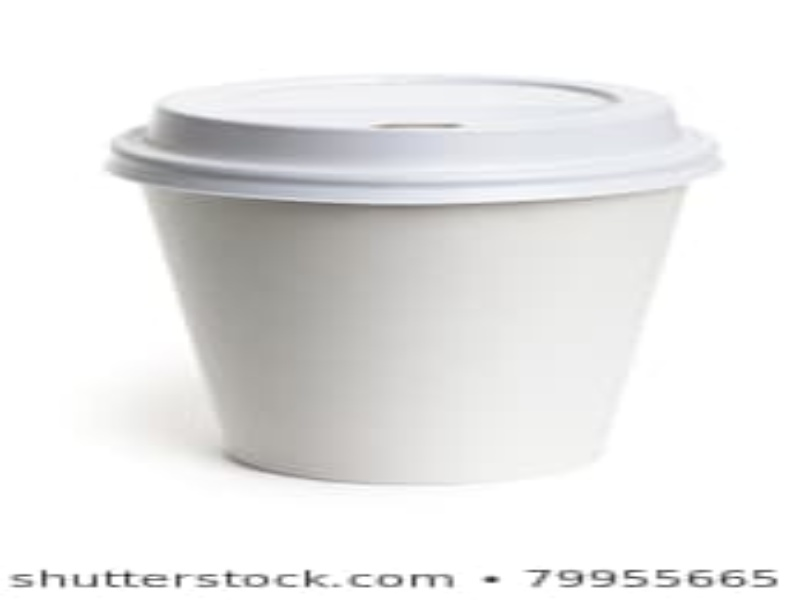coffee-lid: (105, 77, 721, 209)
plastic-cup: (104, 74, 720, 487)
